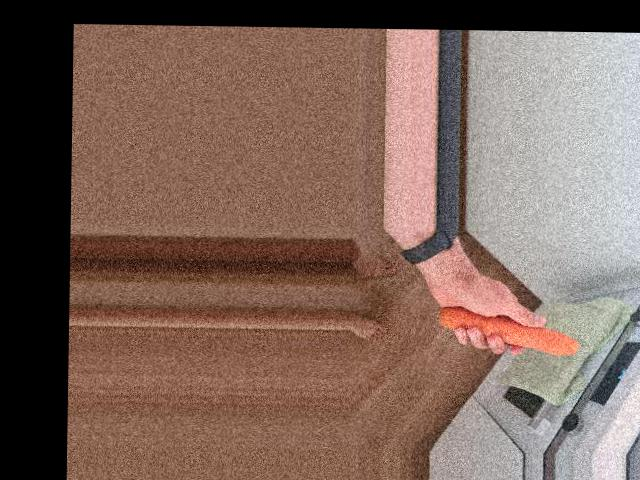carrot: (434, 305, 578, 357)
